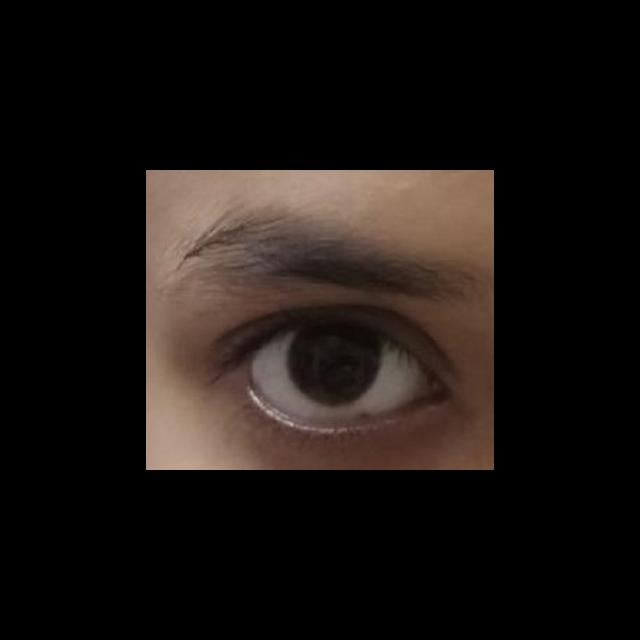eye: (248, 317, 433, 430)
iris: (287, 328, 386, 408)
